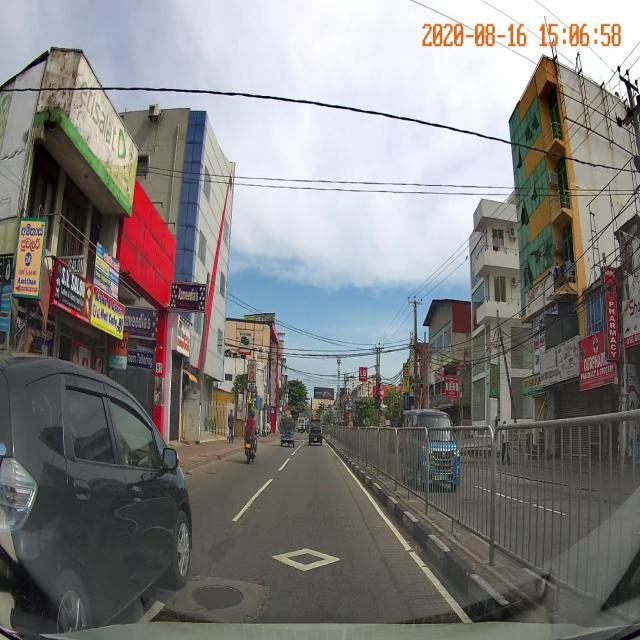diamond: (169, 510, 465, 605)
